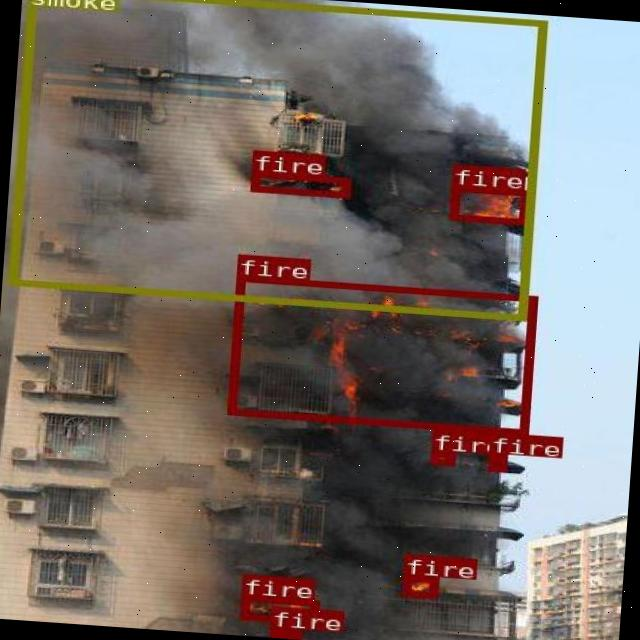fire: (225, 274, 536, 434), (448, 184, 528, 224), (248, 170, 349, 196), (240, 594, 316, 622), (400, 574, 438, 596), (428, 450, 454, 464), (267, 626, 298, 636), (487, 452, 505, 469)
smoke: (6, 0, 545, 319)
